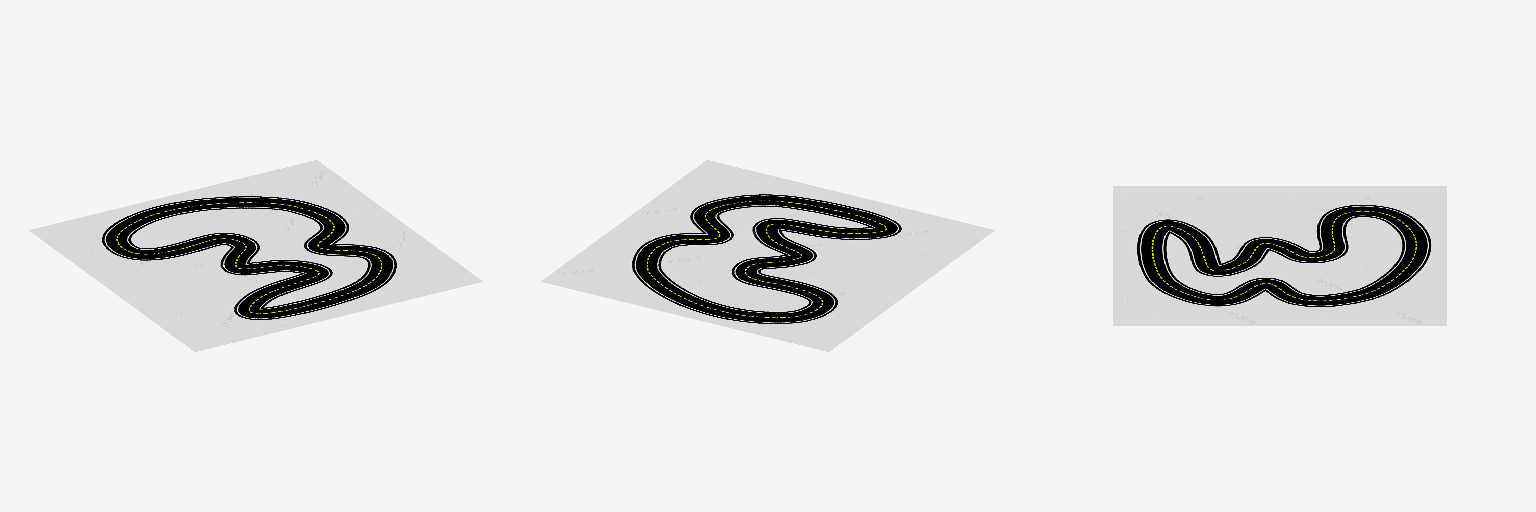
The picture shows the model from 3 angles: view 1: azimuth 30°, elevation 25°; view 2: azimuth 150°, elevation 25°; view 3: azimuth 270°, elevation 25°; orthographic projection.
Parts seen in each view (by area): view 1: Plane; view 2: Plane; view 3: Plane.
Part boxes in pixels (left/top/right/bottom): Plane: left=29, top=160, right=482, bottom=351; Plane: left=541, top=160, right=994, bottom=351; Plane: left=1113, top=186, right=1446, bottom=325.
Bounding box in the file's own units: 60 × 0 × 60.
1 materials, 1 textured.